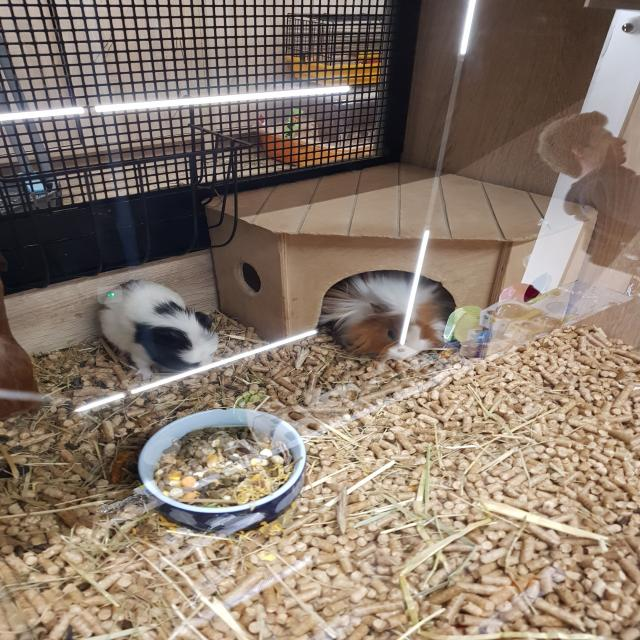guinea pig: (97, 276, 215, 379), (318, 271, 450, 362)
